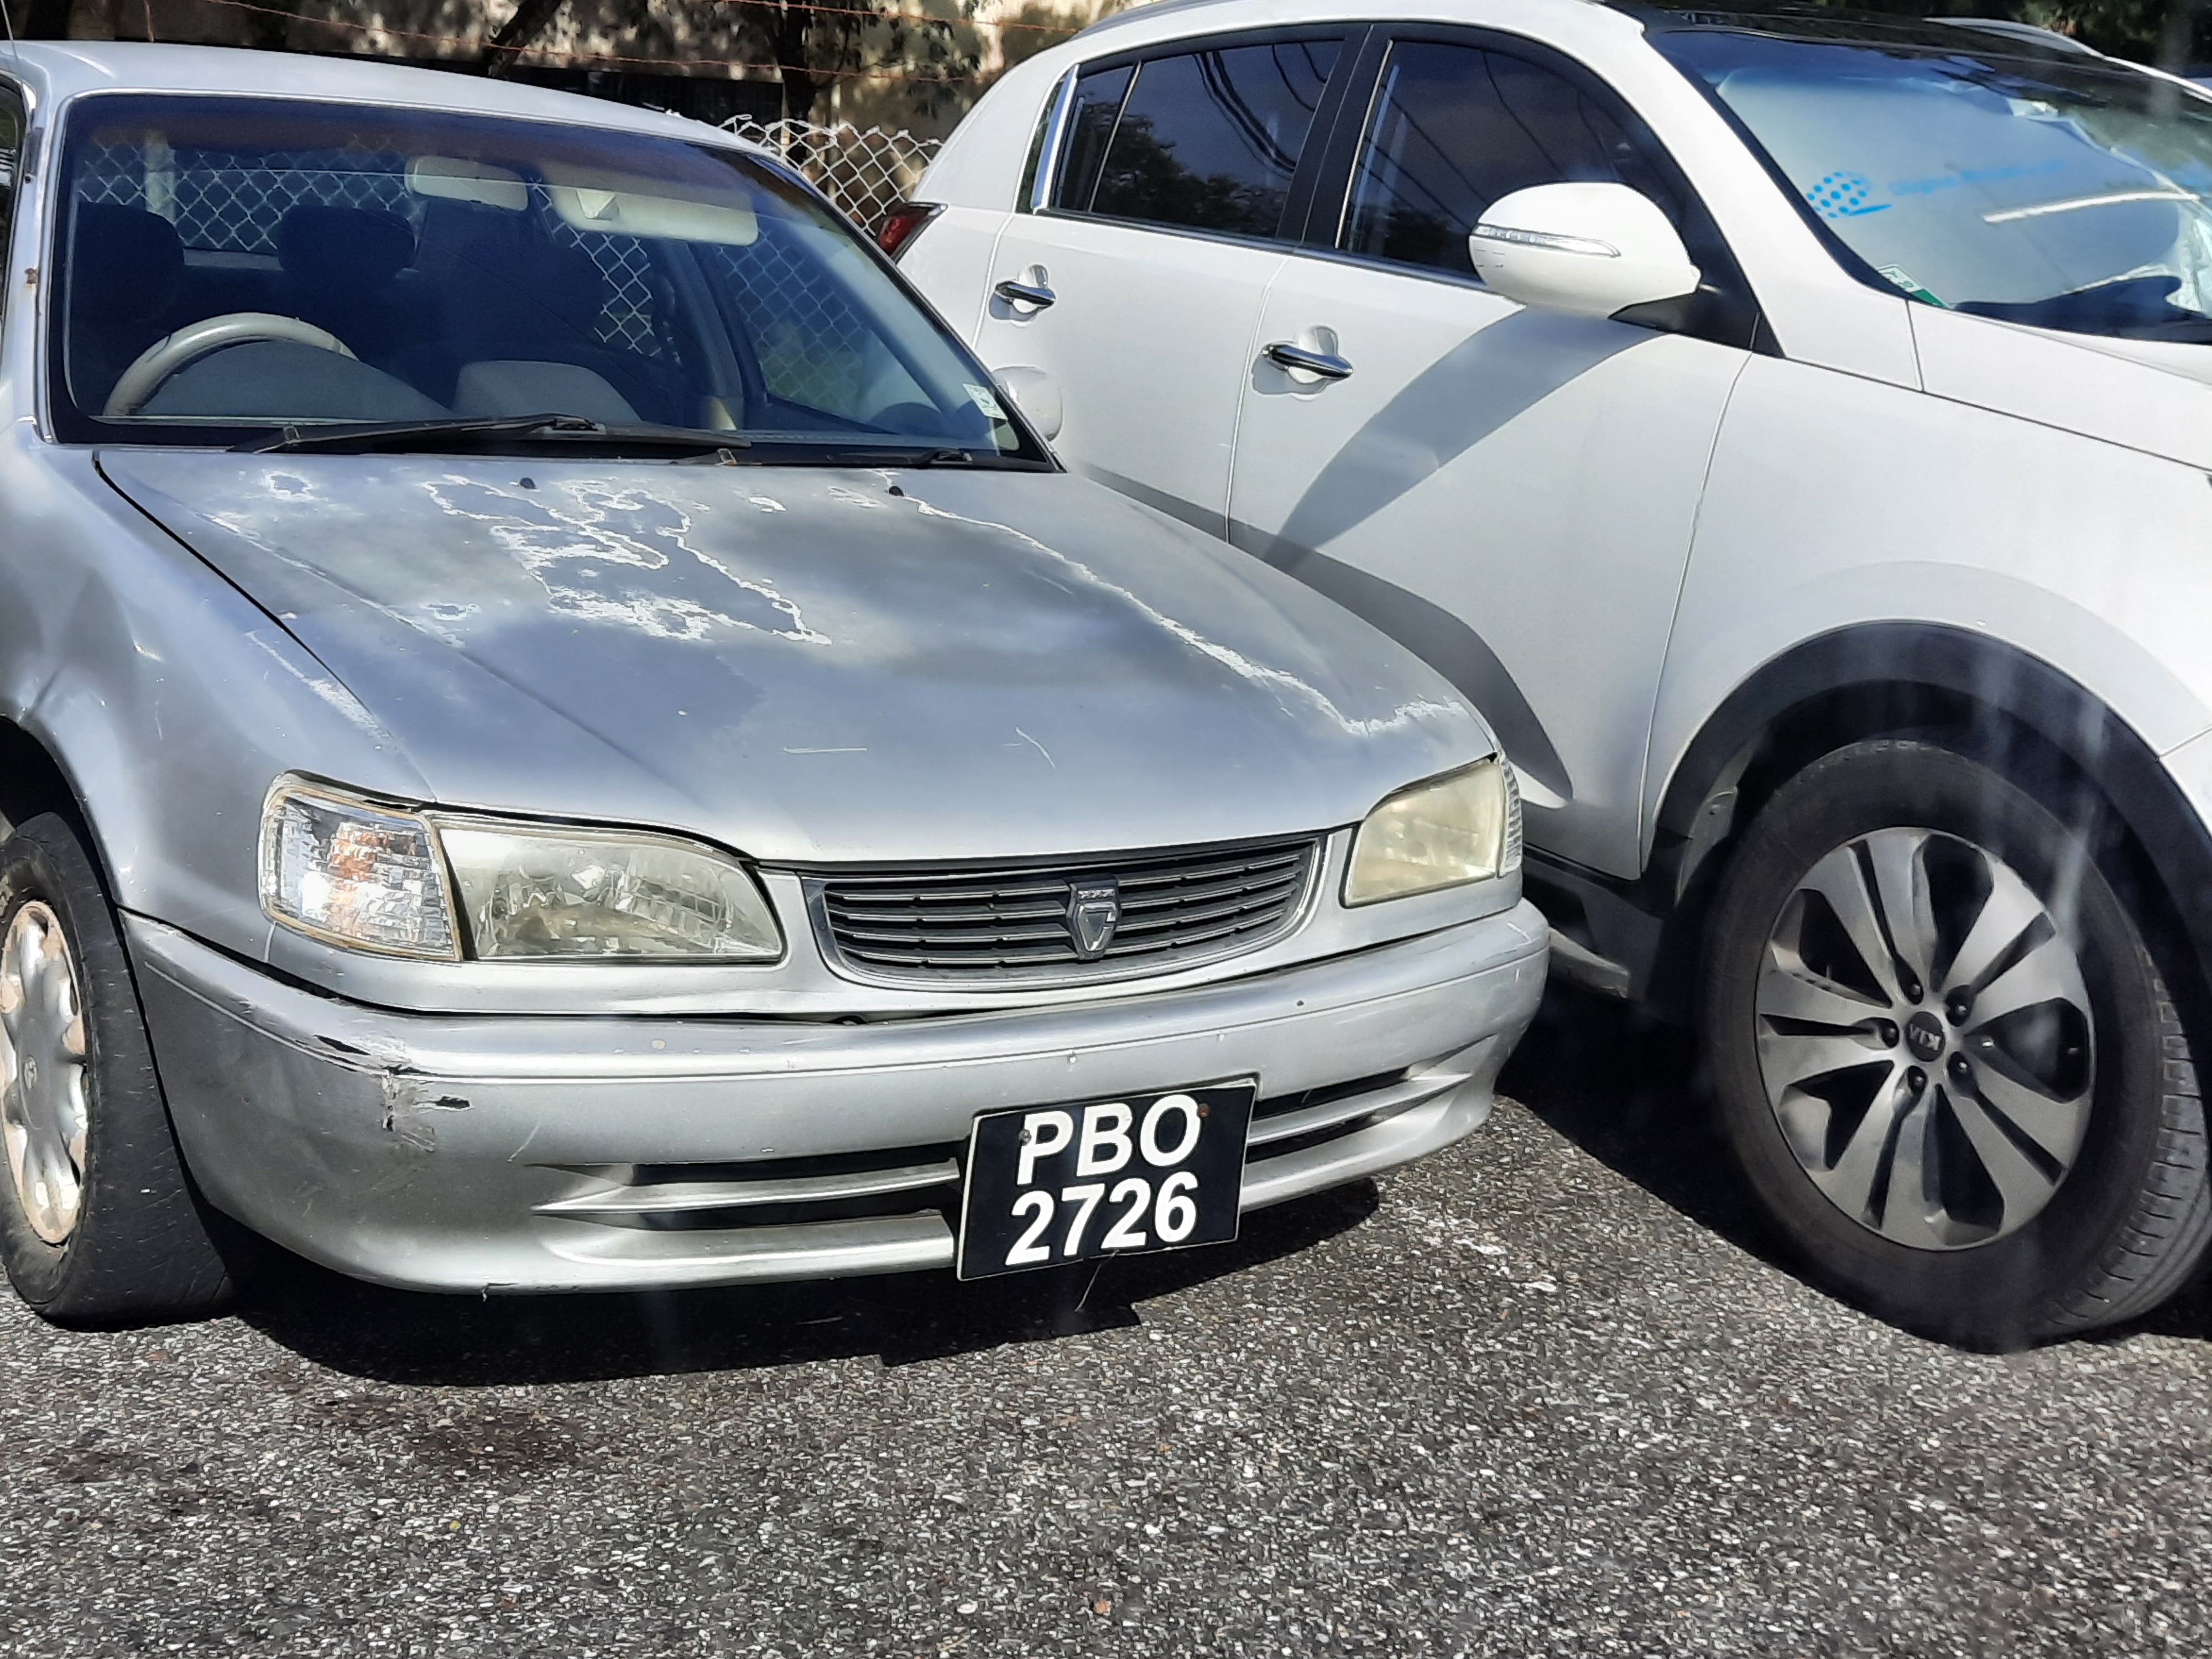License-Plate: (977, 1117, 1214, 1272)
